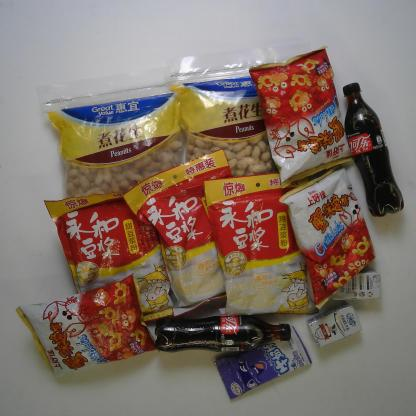Candy: (211, 322, 315, 402)
Dried Food: (35, 65, 187, 200), (169, 41, 314, 177)
Drink: (341, 80, 406, 219), (152, 313, 293, 355)
Instant Drink: (121, 147, 235, 319), (201, 172, 323, 317), (41, 191, 174, 323)
Milk: (304, 301, 364, 350), (331, 268, 383, 303)
Puffed Food: (13, 268, 160, 379), (247, 44, 354, 190), (276, 162, 378, 312)
